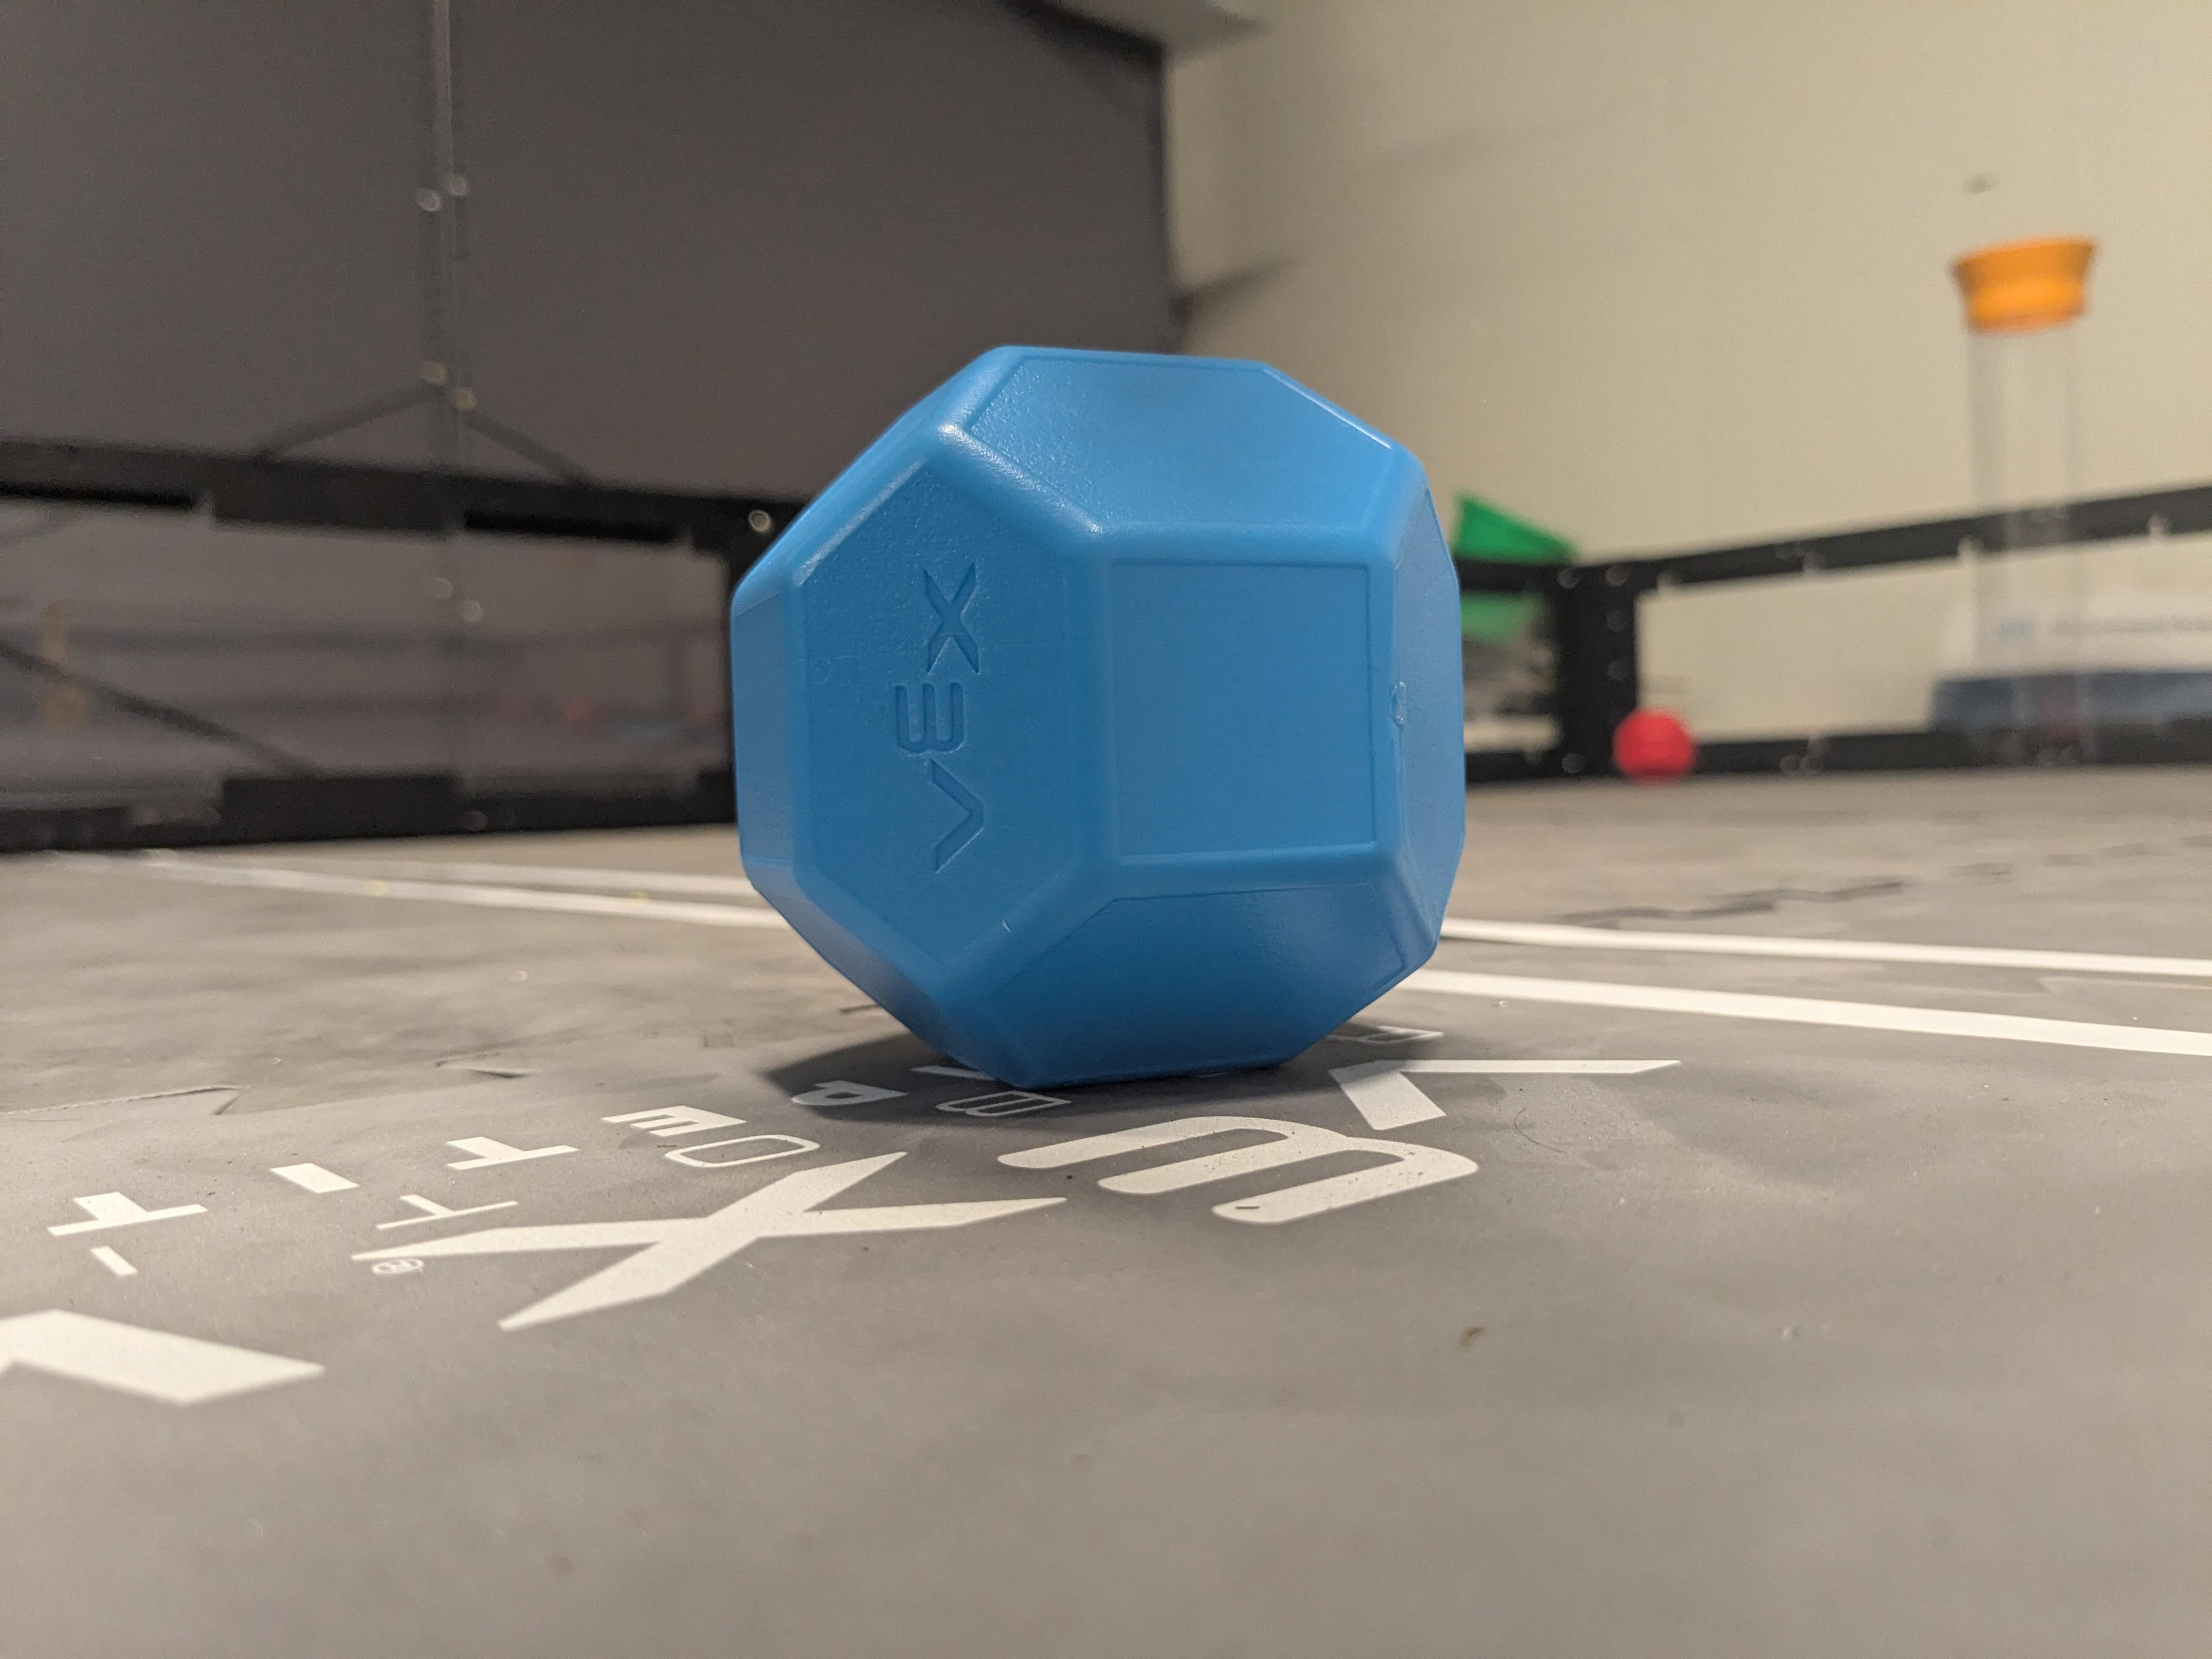Vex-Pieces-BLUE: (732, 350, 1475, 1087)
